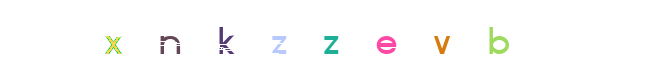B: (429, 0, 509, 80)
E: (346, 0, 426, 80)
K: (246, 0, 326, 80)
N: (157, 0, 237, 80)
V: (402, 0, 482, 80)
X: (140, 0, 220, 80)
Z: (254, 0, 334, 80), (285, 0, 365, 80)
